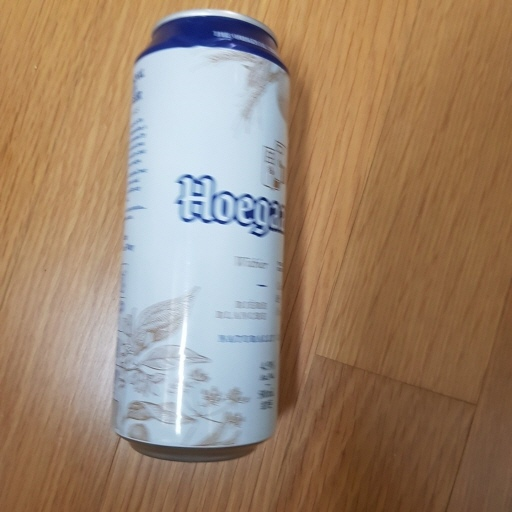Metal_0: (114, 8, 288, 461)
